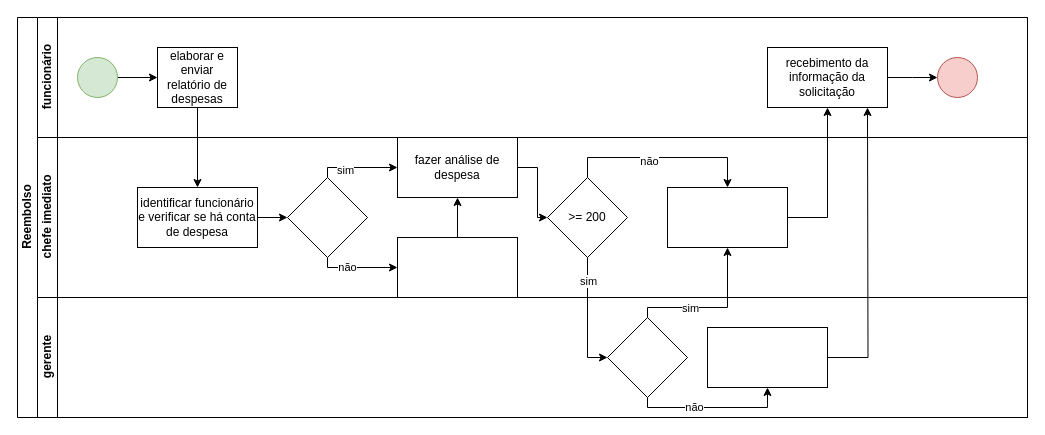
This 1045x435 diagram has some shape labels left out. The centre of each missing label's shape, as x and y in pixels:
"aprovação" belongs at (x=647, y=357).
"aprovação, transferência e informe da solicitação" belongs at (x=727, y=217).
"conta" belongs at (x=327, y=217).
"criar conta e fazer análise de despesa" belongs at (x=457, y=267).
"informa o veto e encerra a solicitação" belongs at (x=767, y=357).
